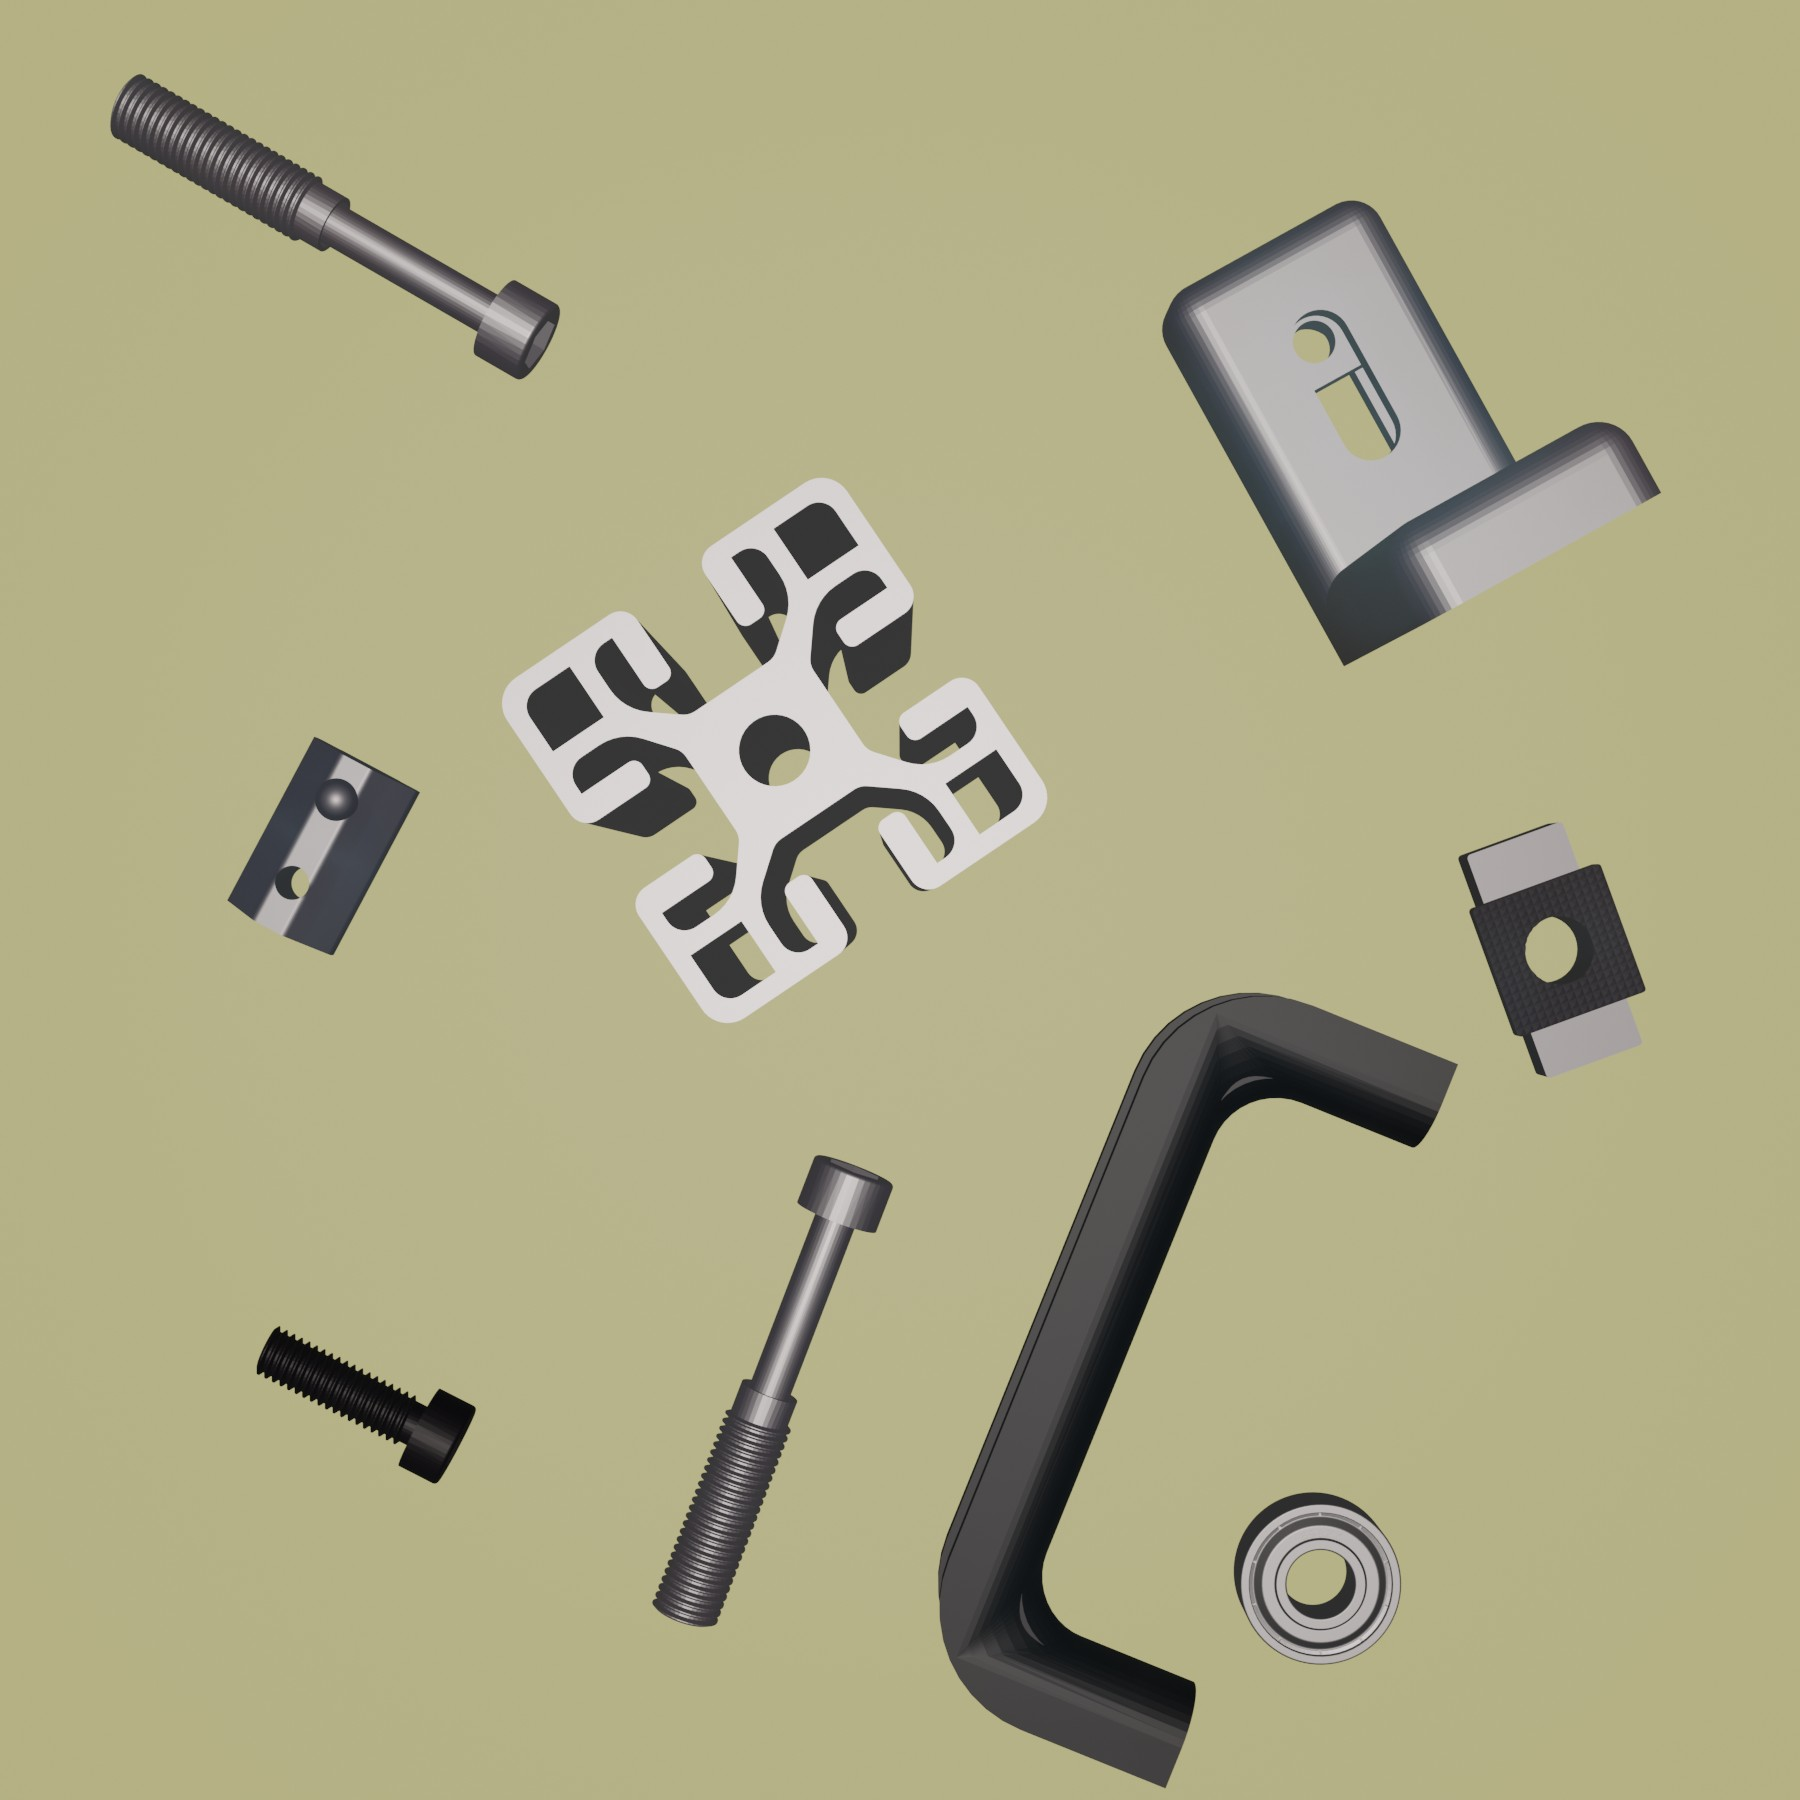Aluminium Extension: (498, 475, 1050, 1030)
Ball Bearing: (1228, 1488, 1404, 1666)
Multiwinkel: (1159, 198, 1662, 668)
Pull Handle: (931, 991, 1460, 1800)
Shoulder Socket Head Cap Screw: (109, 74, 562, 381), (648, 1151, 893, 1630)
Socket Head Cap Screw: (251, 1324, 478, 1484)
T Nut Square: (1454, 816, 1650, 1081)
T Spring Nut: (224, 735, 420, 954)
